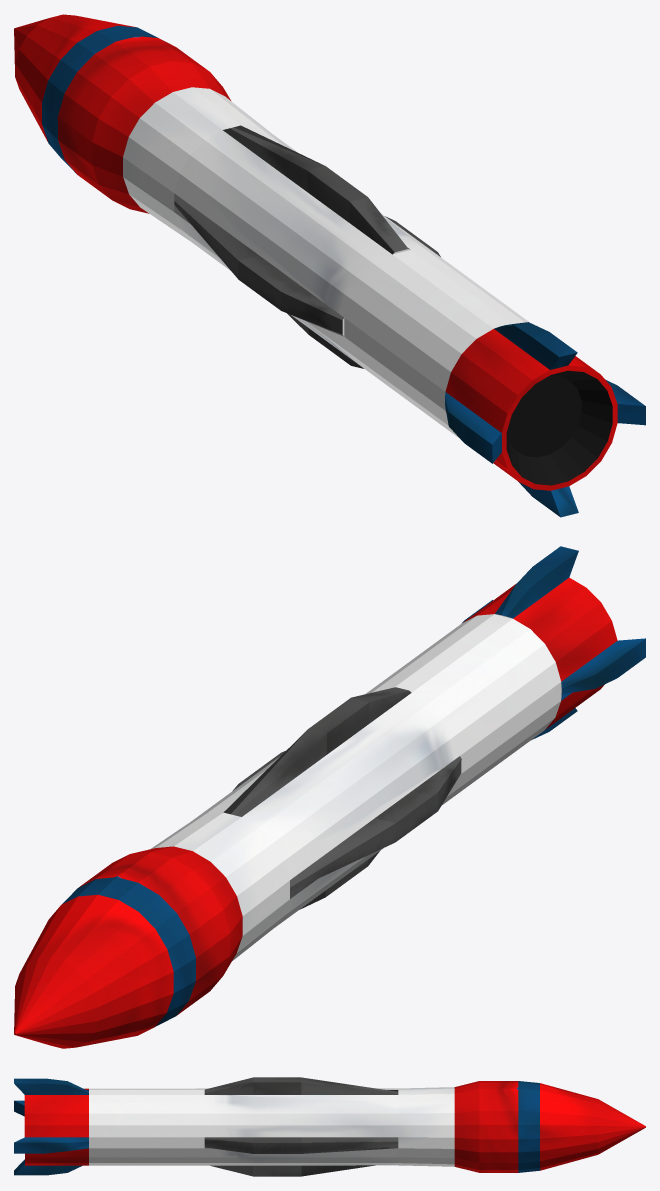
File: fast missile.dae
3 renders of one model, top to bottom at view 1: azimuth 30°, elevation 25°; view 2: azimuth 150°, elevation 25°; view 3: azimuth 270°, elevation 25°, orthographic. The views are drawn at different scales.
Visible parts, largest first — view 1: Cylinder1-0; view 2: Cylinder1-0; view 3: Cylinder1-0.
Boxes of the visible parts, x1=… form: Cylinder1-0: x1=14, y1=14, x2=645, y2=517; Cylinder1-0: x1=14, y1=546, x2=645, y2=1048; Cylinder1-0: x1=14, y1=1077, x2=645, y2=1176.
Bounding box in the file's own units: 0.4801 × 0.4802 × 2.93.
